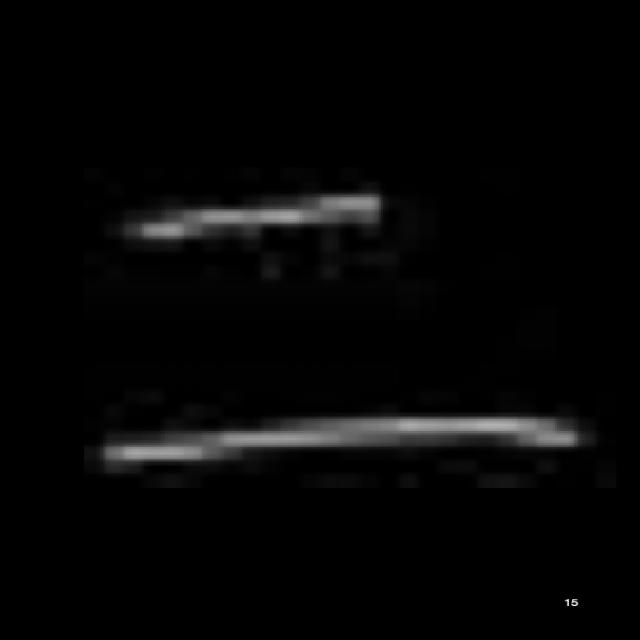2 -two-: (81, 180, 604, 470)
